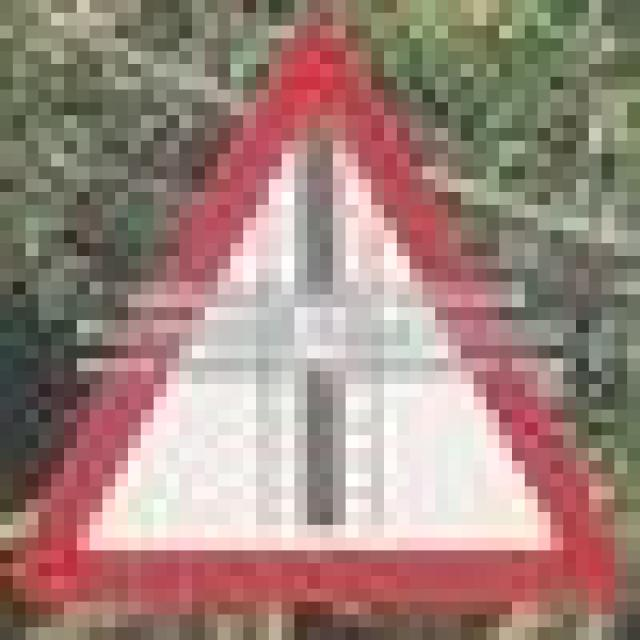ferry: (0, 0, 627, 589)
